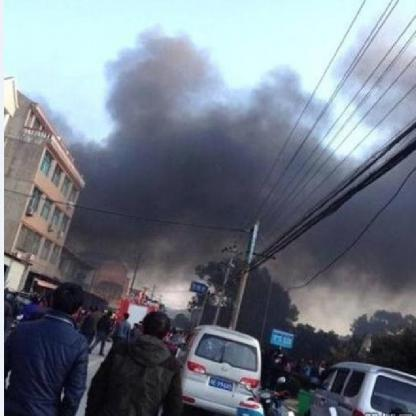smoke: (139, 146, 310, 256), (320, 162, 412, 298), (107, 26, 216, 140), (74, 140, 134, 258), (226, 76, 310, 144)
